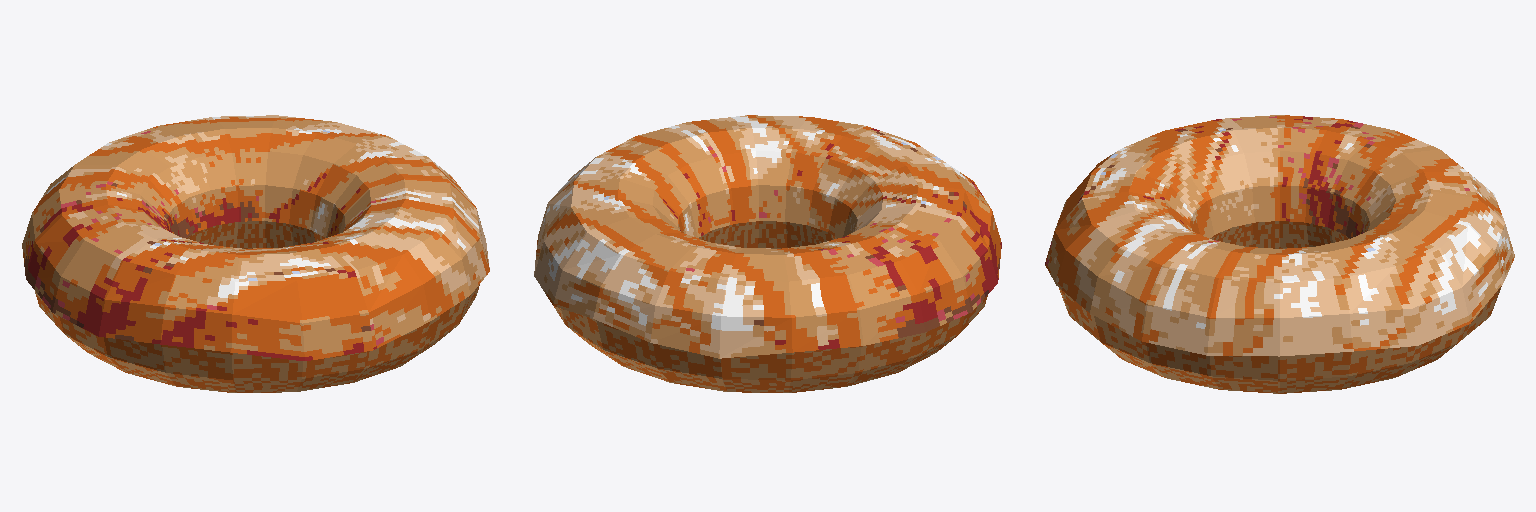
3 renders of one model, left to right at view 1: azimuth 30°, elevation 25°; view 2: azimuth 150°, elevation 25°; view 3: azimuth 270°, elevation 25°, orthographic.
Parts seen in each view (by area): view 1: doughnut_ps_baked; view 2: doughnut_ps_baked; view 3: doughnut_ps_baked.
Part boxes in pixels (bbox=[...]): doughnut_ps_baked: bbox=[22, 115, 489, 392]; doughnut_ps_baked: bbox=[534, 115, 1001, 392]; doughnut_ps_baked: bbox=[1045, 115, 1514, 393].
Size of the model in its own units: 1.28 by 0.3887 by 1.28.
Materials: 1 (1 with a texture image).